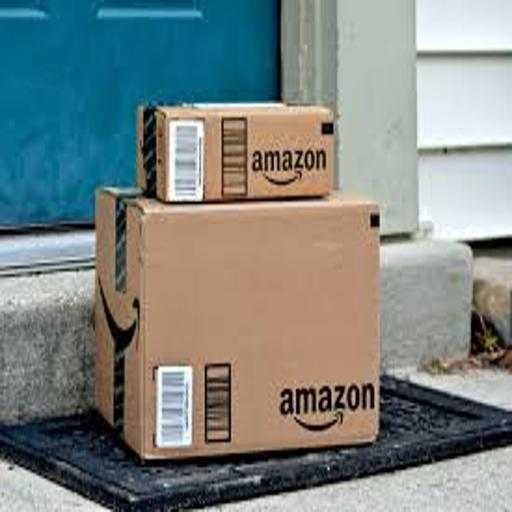Amazon: (95, 189, 386, 464), (135, 101, 339, 201)
